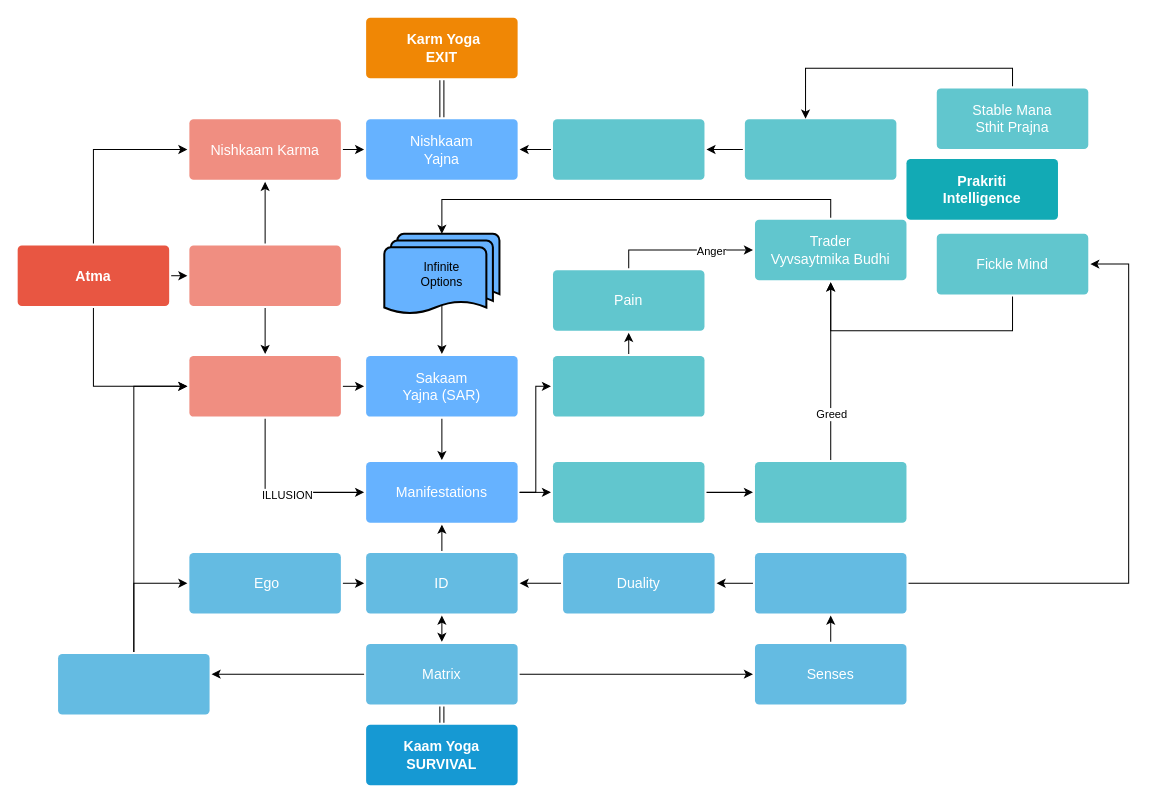
This 1154x802 diagram has some shape labels left out. The centre of each missing label's shape, as x and y in pixels:
Desires: the point at 133,683
Expansive /Encompassing: the point at 628,149
Favorable Outcomes: the point at 628,492
Happiness: the point at 830,492
Interface: the point at 830,582
Knowledge: the point at 264,275
Sakaam Karma: the point at 264,386
Stable Samttva Buddhi: the point at 820,149
Unfavorable Outcomes: the point at 628,386
